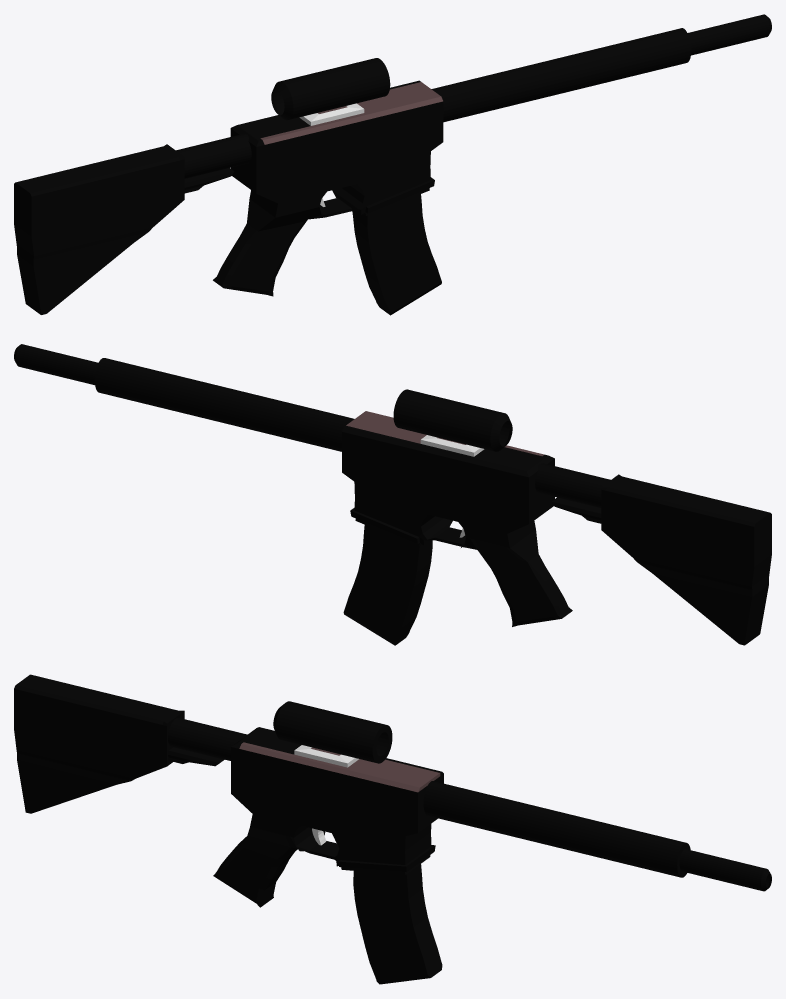
File: Rifle.fbx
3 renders of one model, top to bottom at view 1: azimuth 30°, elevation 25°; view 2: azimuth 150°, elevation 25°; view 3: azimuth 330°, elevation 25°, orthographic.
Visible parts, largest first — view 1: Body, Cube, Barrel, Cube.001; view 2: Body, Cube, Barrel, Cube.001; view 3: Body, Cube, Barrel, Cube.001.
Part boxes in pixels (box(x1,y1,x2,y2)): Body: box(213, 58, 443, 296); Cube: box(14, 134, 251, 314); Barrel: box(431, 14, 771, 122); Cube.001: box(352, 194, 441, 315); Body: box(342, 389, 572, 626); Cube: box(535, 463, 771, 645); Barrel: box(14, 344, 354, 451); Cube.001: box(343, 525, 432, 645); Body: box(213, 701, 443, 907); Cube: box(14, 674, 247, 813); Barrel: box(423, 781, 771, 891); Cube.001: box(353, 864, 442, 984).
Bounding box in the file's own units: 682 × 220 × 47.88.
